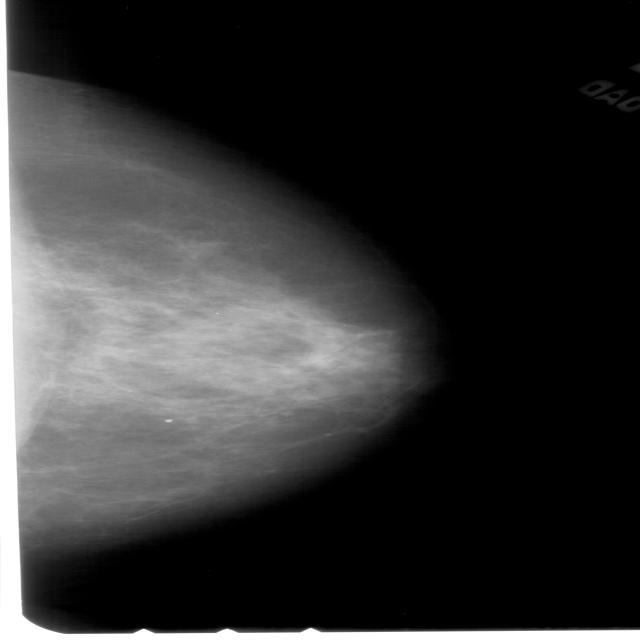normal: (0, 58, 424, 548)
